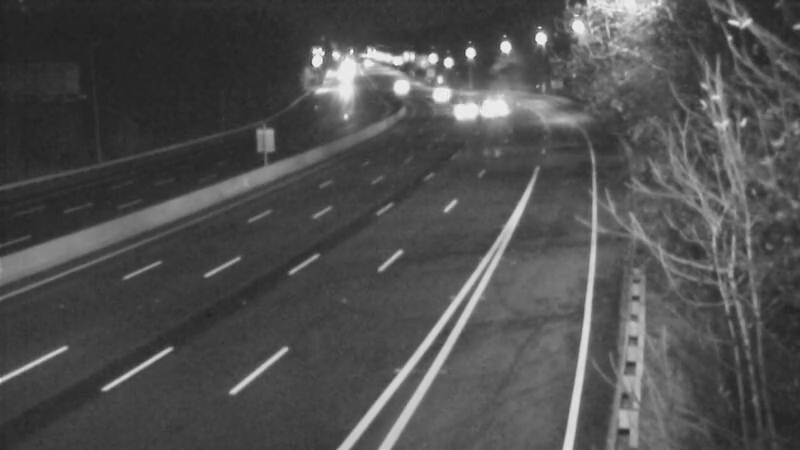vehicle: (375, 57, 425, 107), (413, 69, 463, 119), (432, 82, 482, 132), (465, 83, 515, 133)
